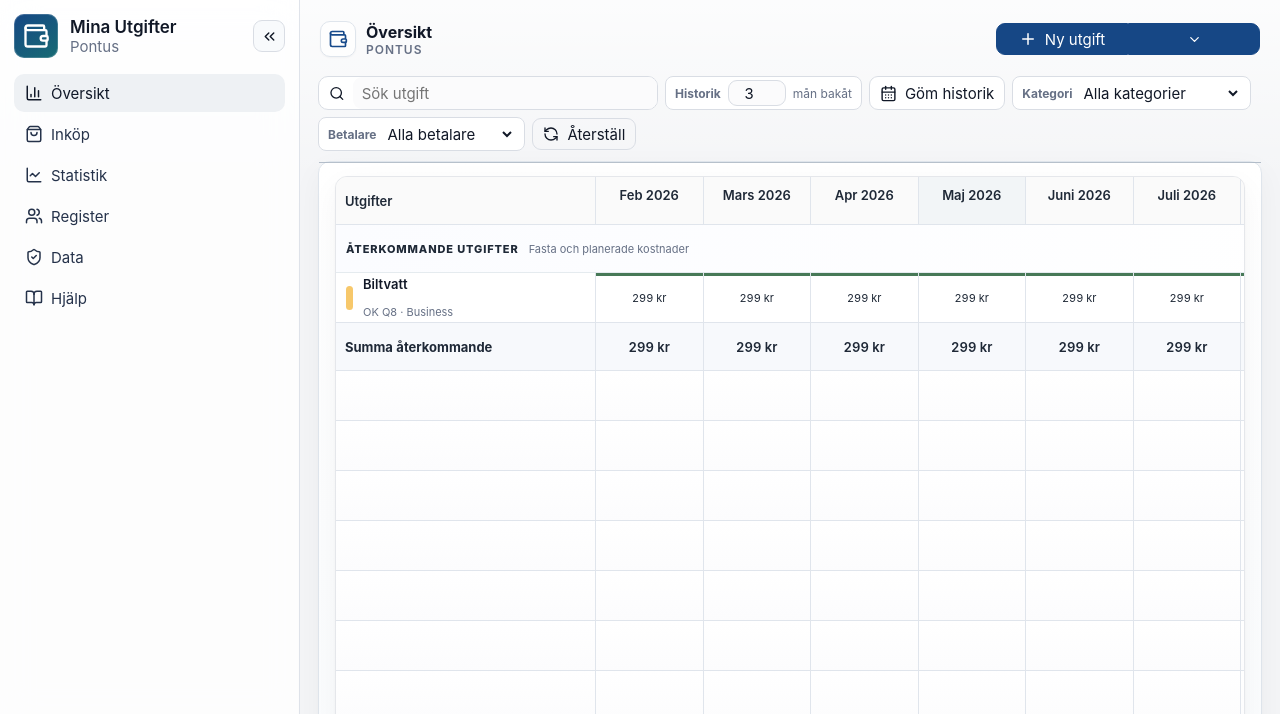
App › sparar ikon och färg på ny leverantör
Click the button "Register": (80, 216) left=14, top=197, right=285, bottom=235
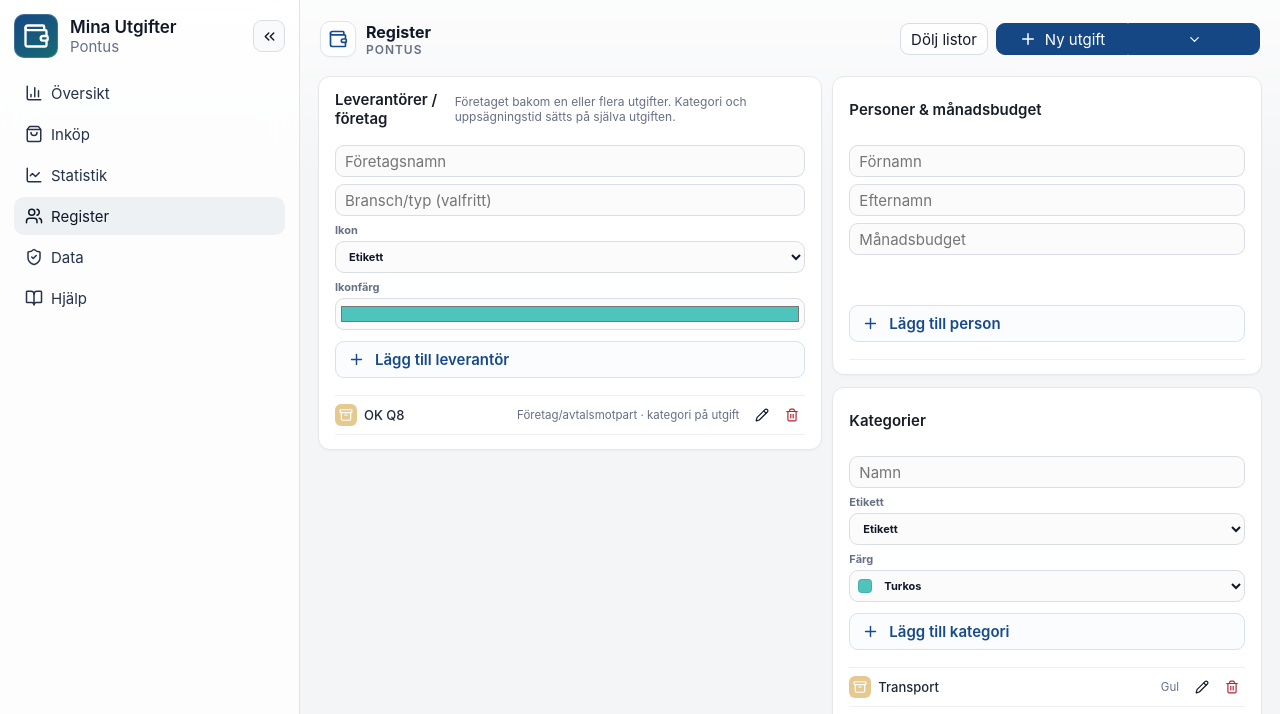
Now the text "Kategori och uppsägningstid sätts på själva utgiften" is shown, box left=455, top=94, right=747, bottom=124
In the field with placeholder "Företagsnamn": (570, 161) left=335, top=145, right=805, bottom=177, type "Spotify"
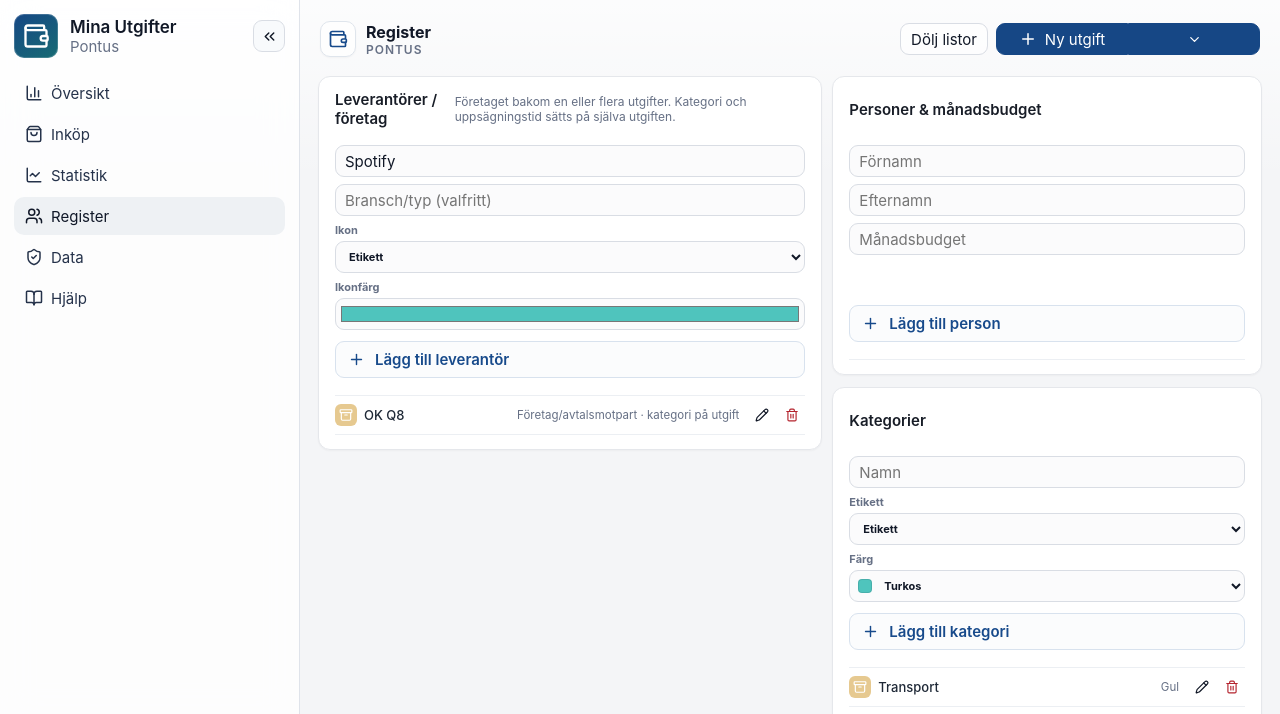
Select "Musik" in the dropdown labelled "Ikon": (570, 257) left=335, top=241, right=805, bottom=273
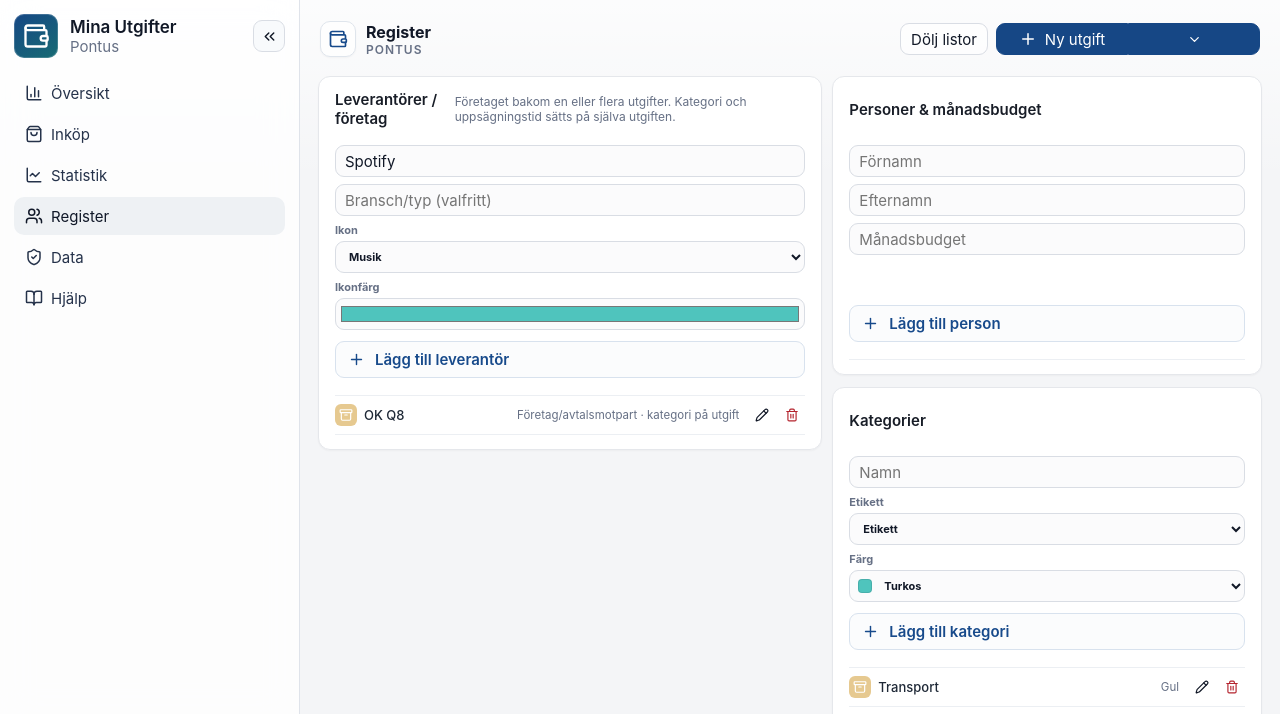
In the colour field labelled "Ikonfärg": (570, 314) left=335, top=298, right=805, bottom=330, type "#6b5ca5"
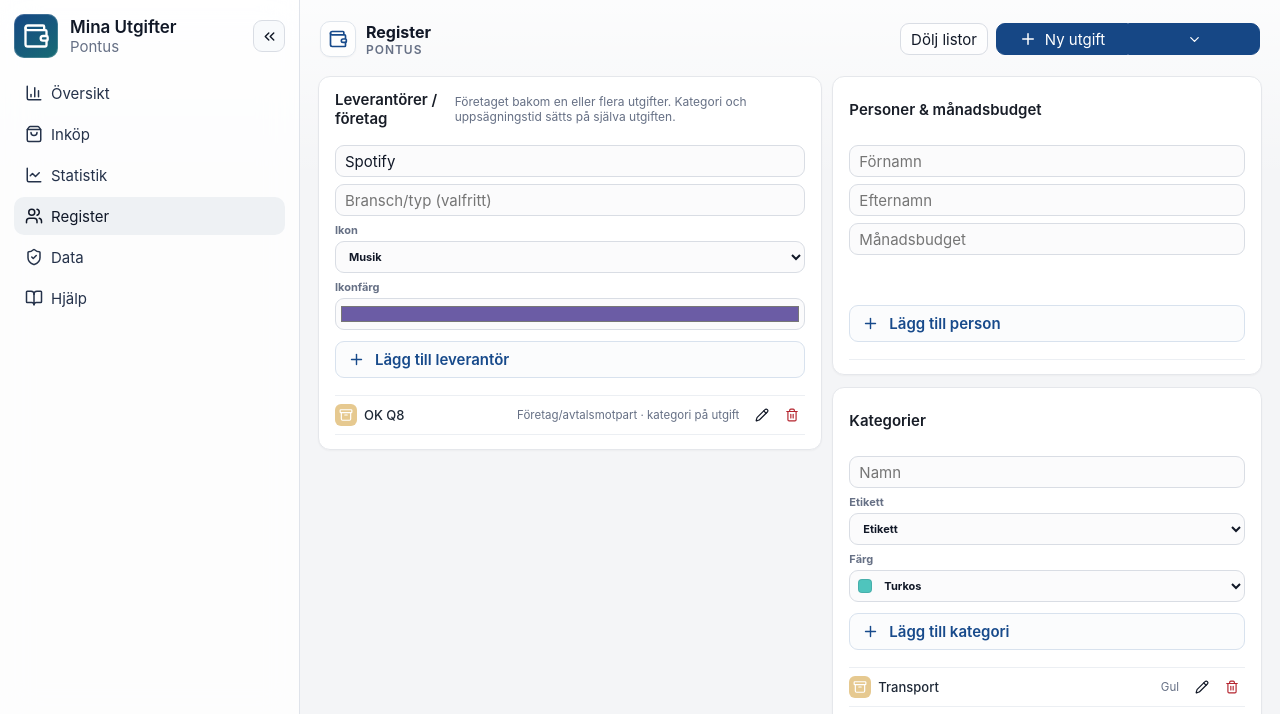
Click the button "Lägg till leverantör": (442, 360) left=335, top=341, right=805, bottom=378
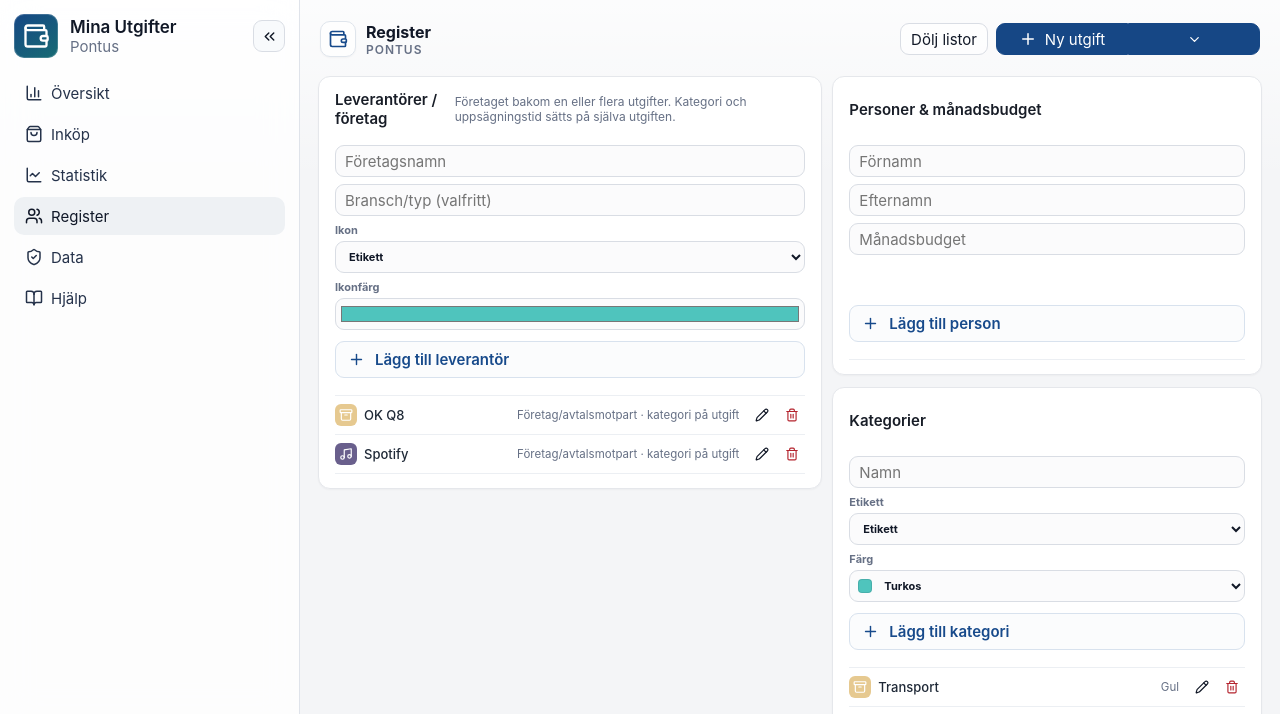
Now the text "Spotify" is shown, box left=364, top=446, right=408, bottom=462
